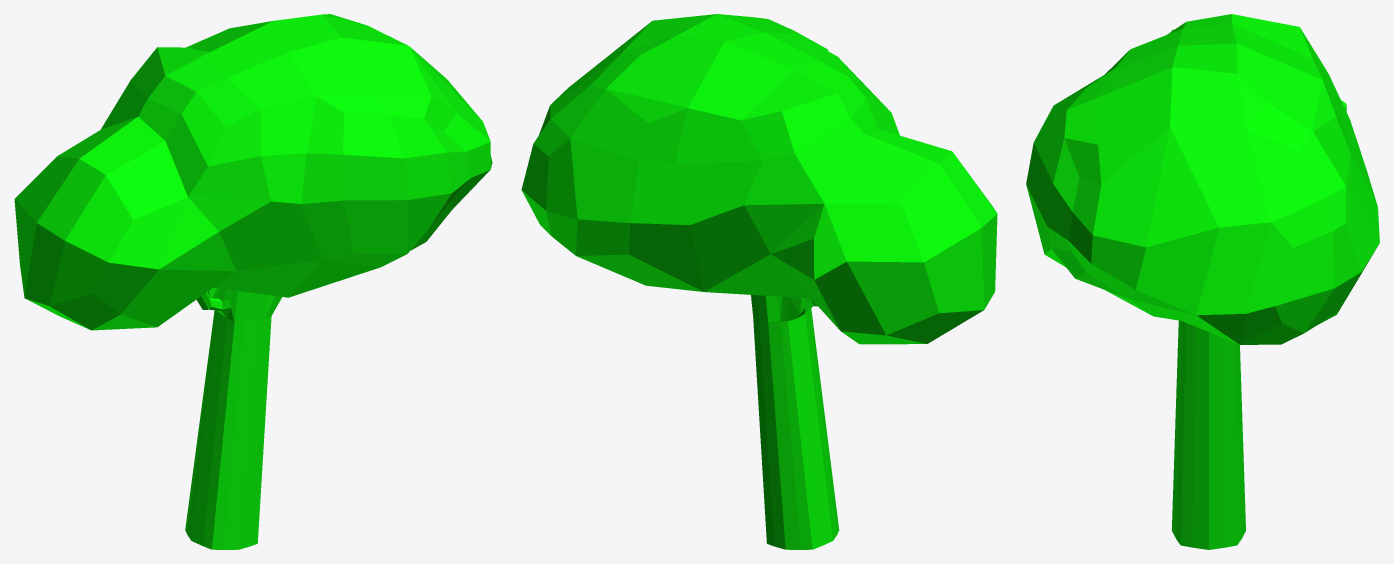
Rendered from Tree1_low.fbx.
3 renders of one model, left to right at view 1: azimuth 30°, elevation 25°; view 2: azimuth 150°, elevation 25°; view 3: azimuth 270°, elevation 25°, orthographic. The views are drawn at different scales.
Parts seen in each view (by area): view 1: Tree_low; view 2: Tree_low; view 3: Tree_low.
Boxes of the visible parts, x1=… form: Tree_low: x1=14, y1=14, x2=492, y2=549; Tree_low: x1=521, y1=14, x2=997, y2=549; Tree_low: x1=1026, y1=14, x2=1379, y2=549.
Bounding box in the file's own units: 80.35 × 86.15 × 52.64.
